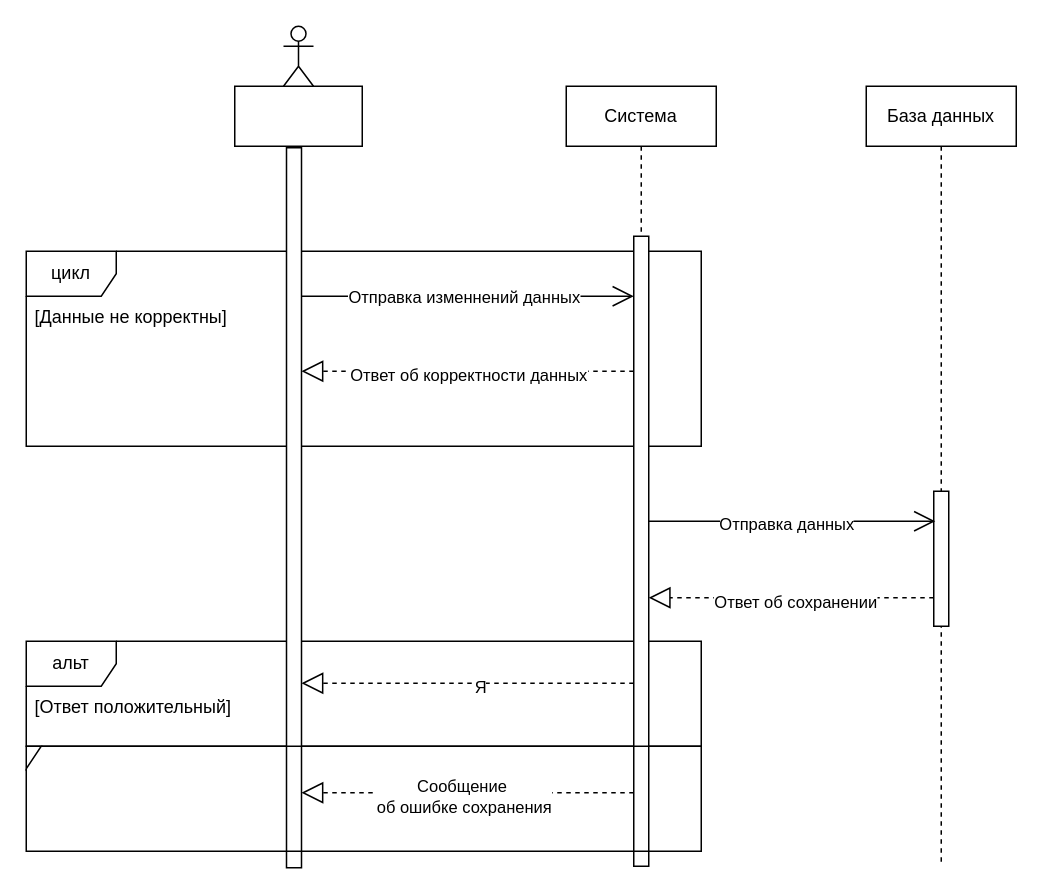
Image size: 1043x894. Some labels were removed from this diagram. The centre of each missing label's shape, as x and y in pixels:
[Ответ отрицательный]: [363,798]
Админ: [297,115]
